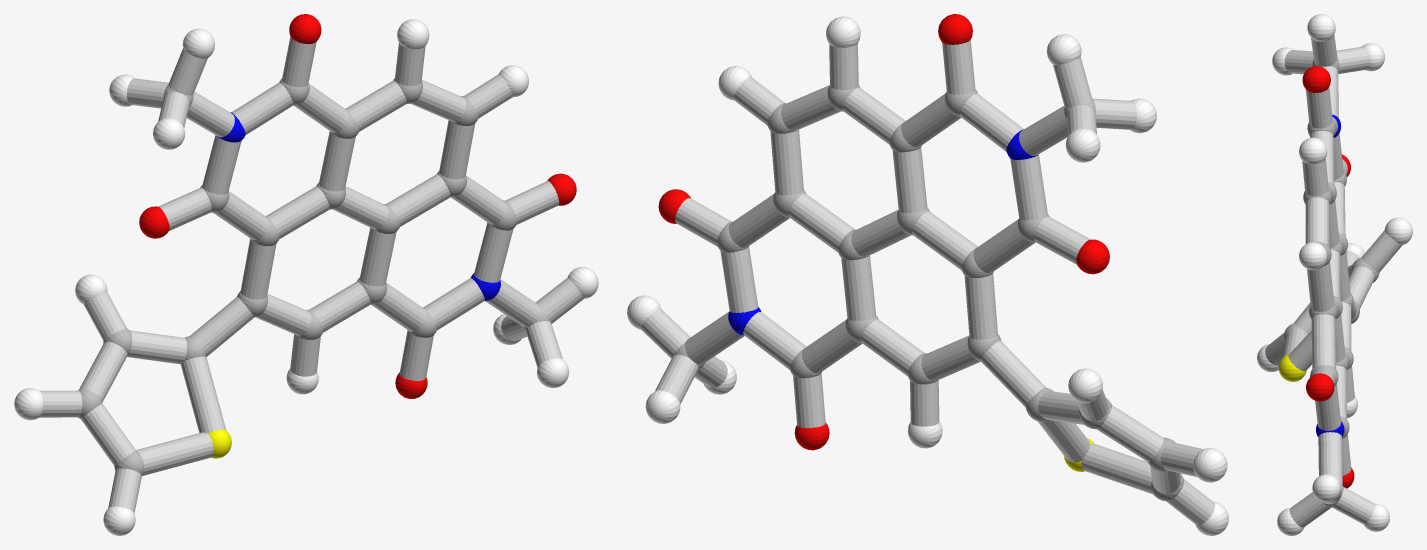
Rendered from Dimethyl_Naphthalene_Dicarboximide_Phi_20_Theta_40_Thiophene.glb.
3 views of the same model, side by side, from view 1: azimuth 30°, elevation 25°; view 2: azimuth 150°, elevation 25°; view 3: azimuth 270°, elevation 25° (orthographic). The views are drawn at different scales.
Parts seen in each view (by area): view 1: grp14119, grp7241, grp1, grp12309, grp11585; view 2: grp14119, grp7241, grp1, grp12309, grp11585; view 3: grp14119, grp7241, grp1, grp12309, grp13757, grp11585.
Boxes of the visible parts, <box> form: grp14119: <box>39,36,583,513</box>; grp7241: <box>14,19,598,535</box>; grp1: <box>78,78,549,475</box>; grp12309: <box>139,14,576,398</box>; grp11585: <box>218,112,500,300</box>; grp14119: <box>641,40,1214,525</box>; grp7241: <box>627,16,1228,535</box>; grp1: <box>673,85,1183,501</box>; grp12309: <box>658,14,1109,450</box>; grp11585: <box>728,129,1037,335</box>; grp14119: <box>1265,35,1402,527</box>; grp7241: <box>1257,14,1412,535</box>; grp1: <box>1283,57,1379,507</box>; grp12309: <box>1302,66,1354,488</box>; grp13757: <box>1278,354,1306,381</box>; grp11585: <box>1316,114,1344,436</box>.
Bounding box in the file's own units: 12.13 × 9.35 × 3.29.
